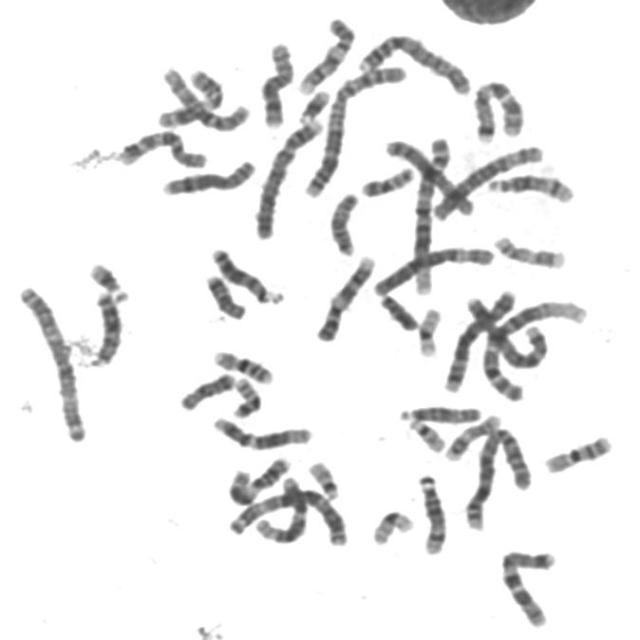A1: (472, 292, 591, 402), (405, 130, 455, 297)
A2: (298, 58, 409, 199), (456, 421, 534, 532)
A3: (11, 278, 90, 443), (222, 480, 352, 547)
B4: (248, 110, 328, 242), (351, 27, 474, 96)
B5: (437, 284, 517, 393), (458, 290, 548, 370)
C10: (156, 60, 252, 133), (111, 123, 210, 171)
C11: (150, 64, 224, 129), (222, 450, 294, 508)
C12: (248, 471, 310, 545), (206, 410, 314, 451)
C6: (426, 138, 546, 222), (366, 239, 496, 298)
C7: (493, 543, 559, 629), (466, 72, 528, 142)
C8: (156, 153, 259, 197), (254, 35, 297, 130)
C9: (309, 249, 379, 343), (291, 10, 358, 96)
D13: (205, 240, 287, 306), (84, 284, 124, 368)
D14: (482, 167, 578, 205), (411, 466, 450, 556)
D15: (323, 186, 362, 258), (392, 398, 483, 425)
E16: (538, 428, 616, 476), (207, 343, 275, 385)
E17: (488, 228, 570, 272), (439, 407, 504, 462)
E18: (173, 365, 237, 412), (199, 267, 249, 321)
F19: (365, 503, 417, 548), (412, 300, 444, 358)
F20: (355, 160, 417, 199), (227, 370, 264, 420)
G21: (82, 255, 131, 303), (292, 83, 332, 124)
G22: (401, 412, 448, 454), (302, 453, 343, 501)
X: (378, 132, 478, 219)
Y: (374, 288, 421, 332)
